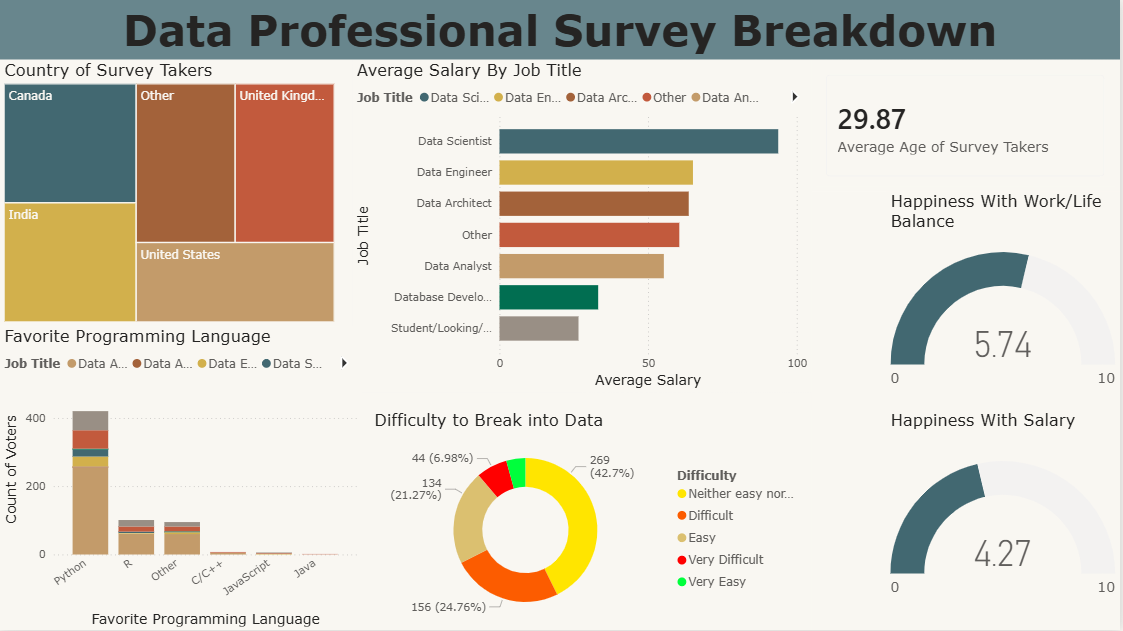

Layout of this report page (visuals, bound fields, positions):
{"tool":"powerbi","page":{"name":"Page 1","canvas":[1280,720],"ordinal":0},"visuals":[{"type":"textbox","box":[0,0,1280.3,68.1],"z":0},{"type":"cardVisual","fields":{"Data":["Avg(Data Professional Survey.Q10 - Current Age)"]},"box":[927.1,68.6,352.9,150],"z":2000},{"type":"barChart","title":"Average Salary By Job Title","fields":{"Category":["Data Professional Survey.Q1 - Which Title Best Fits your Current Role?.1"],"Y":["Avg(Data Professional Survey.Average Salary)"],"Series":["Data Professional Survey.Q1 - Which Title Best Fits your Current Role?.1"]},"box":[403.1,68.1,524.9,379.9],"z":3000},{"type":"columnChart","title":"Favorite Programming Language","fields":{"Category":["Data Professional Survey.Q5 - Favorite Programming Language.1"],"Y":["CountNonNull(Data Professional Survey.Unique ID)"],"Series":["Data Professional Survey.Q1 - Which Title Best Fits your Current Role?.1"]},"box":[0,372.6,413.2,348],"z":4000},{"type":"treemap","title":"Country of Survey Takers","fields":{"Group":["Data Professional Survey.Q11 - Which Country do you live in?.1"],"Values":["Count(Data Professional Survey.Q11 - Which Country do you live in?.1)"]},"box":[0,68.1,387.1,304.5],"z":5000},{"type":"gauge","title":"Happiness With Work/Life Balance","fields":{"Y":["Avg(Data Professional Survey.Q6 - How Happy are you in your Current Position with the following? (Work/Life Balance))"],"MinValue":["Min(Data Professional Survey.Q6 - How Happy are you in your Current Position with the following? (Work/Life Balance))"],"MaxValue":["Max(Data Professional Survey.Q6 - How Happy are you in your Current Position with the following? (Work/Life Balance))1"]},"box":[1013.5,218.9,266.8,252.3],"z":6000},{"type":"gauge","title":"Happiness With Salary","fields":{"Y":["Avg(Data Professional Survey.Q6 - How Happy are you in your Current Position with the following? (Salary))"],"MinValue":["Min(Data Professional Survey.Q6 - How Happy are you in your Current Position with the following? (Salary))"],"MaxValue":["Max(Data Professional Survey.Q6 - How Happy are you in your Current Position with the following? (Salary))"]},"box":[1013.5,468.3,266.8,252.3],"z":7000},{"type":"donutChart","title":"Difficulty to Break into Data","fields":{"Category":["Data Professional Survey.Q7 - How difficult was it for you to break into Data?"],"Y":["CountNonNull(Data Professional Survey.Q7 - How difficult was it for you to break into Data?)"]},"box":[423.4,468.3,504.6,252.3],"z":8000}]}

Visuals, with their boxes in screenshot pixels (x1, y1, x2, y2), scaled from the page's 1280x720 canvas onto the 1123x631 screenshot:
textbox: l=0, t=0, r=1122, b=60
cardVisual - Avg(Data Professional Survey.Q10 - Current Age): l=813, t=60, r=1122, b=192
"Average Salary By Job Title" barChart: l=354, t=60, r=814, b=393
"Favorite Programming Language" columnChart: l=0, t=327, r=363, b=630
"Country of Survey Takers" treemap: l=0, t=60, r=340, b=327
"Happiness With Work/Life Balance" gauge: l=889, t=192, r=1122, b=413
"Happiness With Salary" gauge: l=889, t=410, r=1122, b=630
"Difficulty to Break into Data" donutChart: l=371, t=410, r=814, b=630
